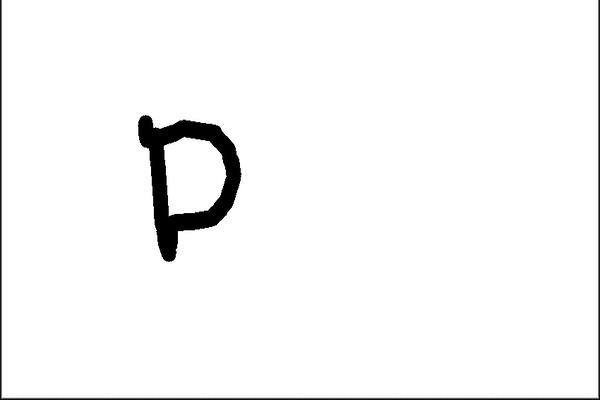D: (132, 109, 246, 265)
